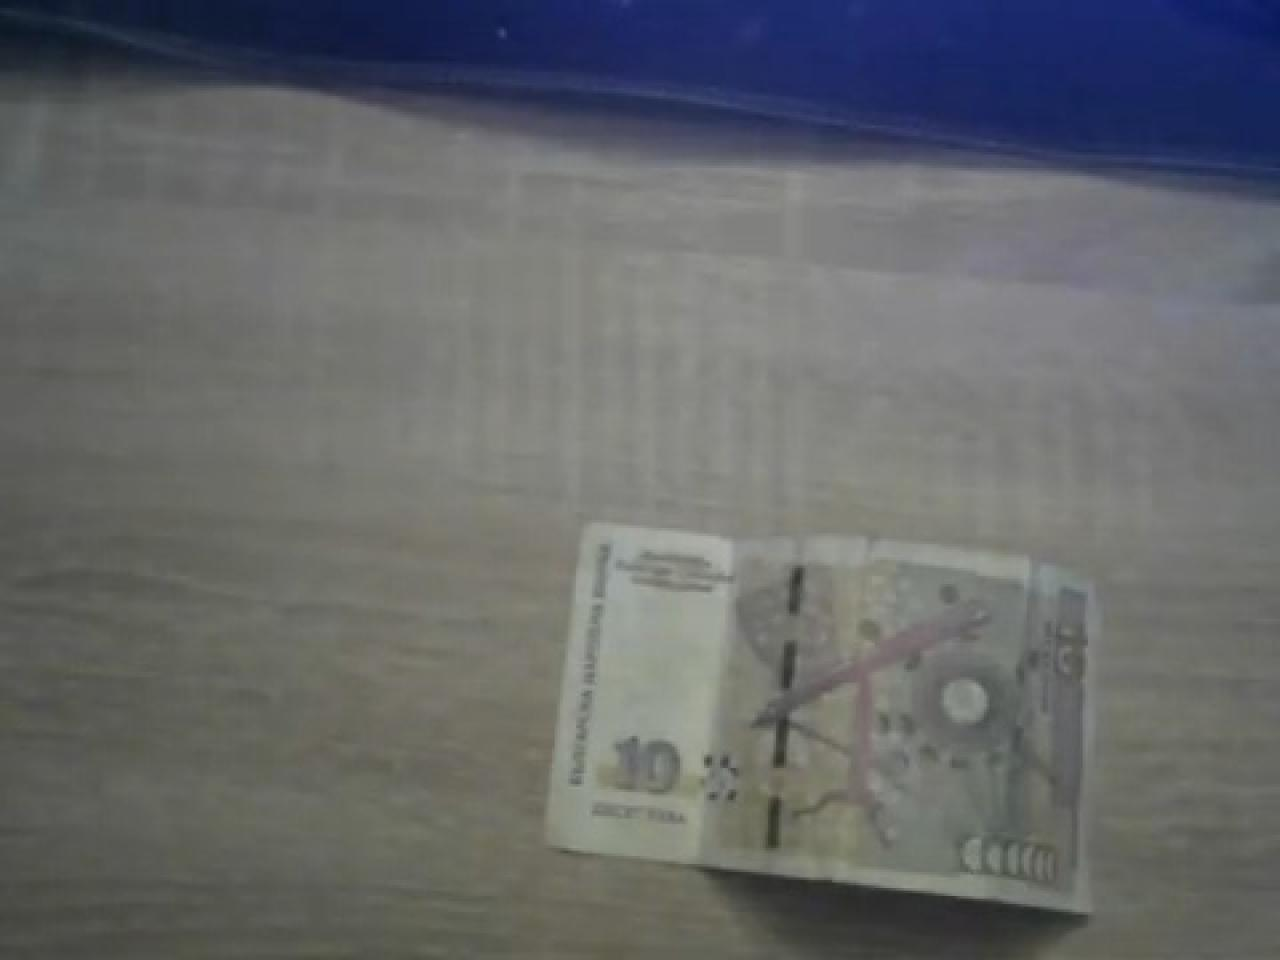10leva: (541, 522, 1099, 928)
